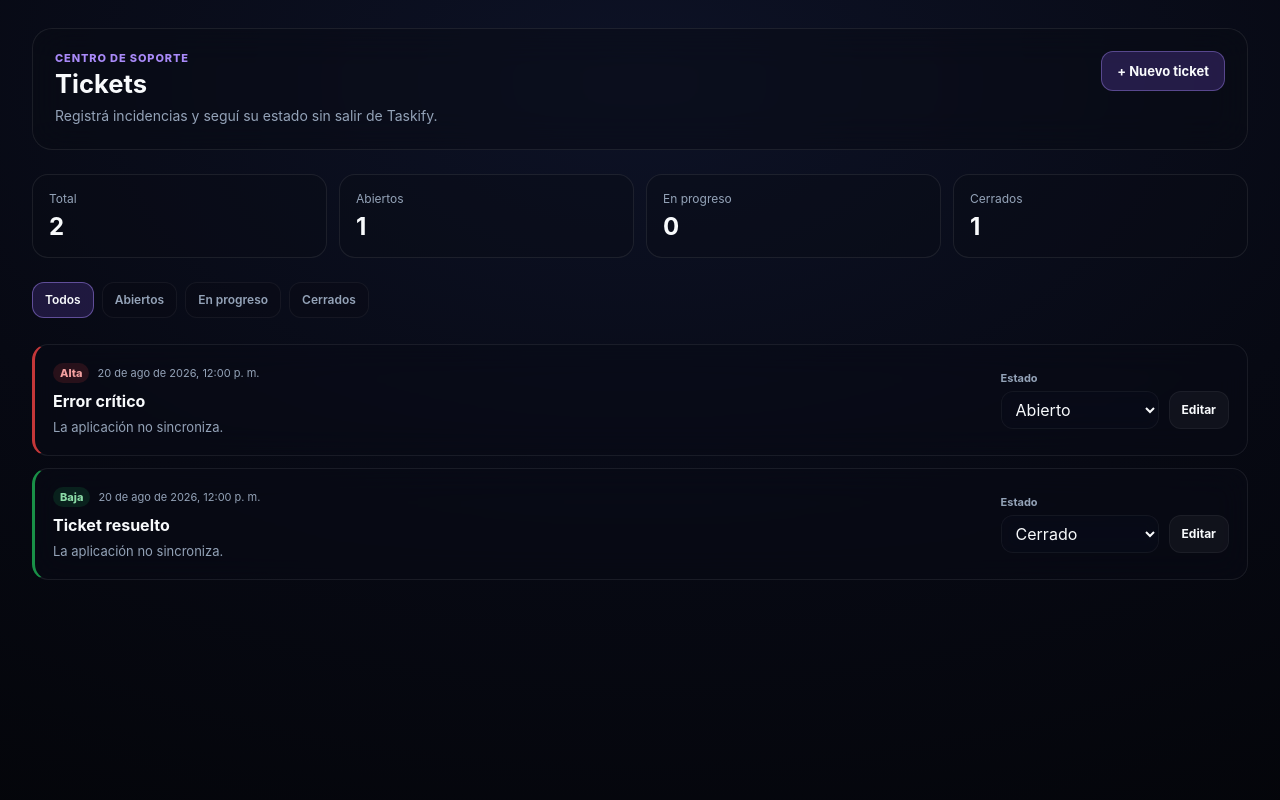
it: DashboardTickets B7.5A › filtra la lista por estado
Check: the heading "Error crítico" is shown, box 53,391 -> 145,411
Check: the heading "Ticket resuelto" is shown, box 53,515 -> 170,535
Click the button "Cerrados": (329, 300) 289,282 -> 369,318
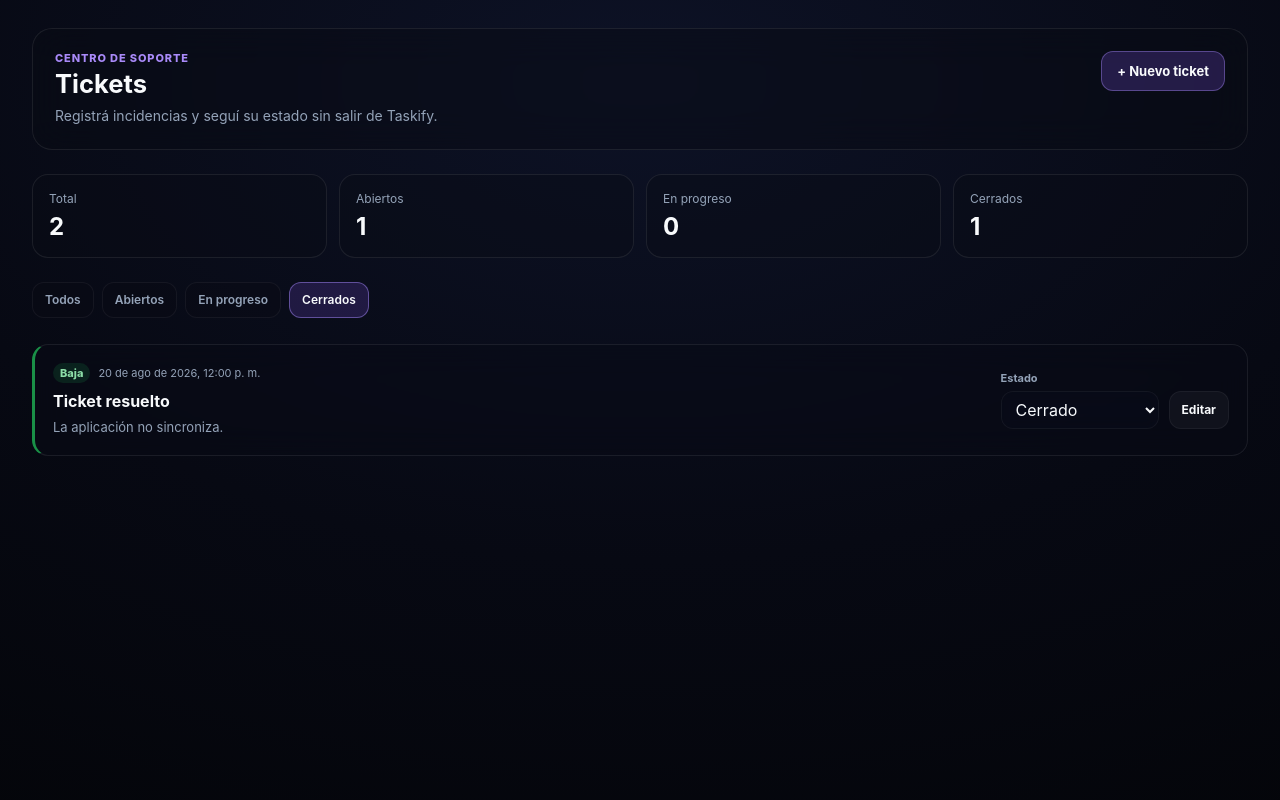
Check: the heading "Ticket resuelto" is shown, box 53,391 -> 170,411
Check: the heading "Error crítico" is gone
